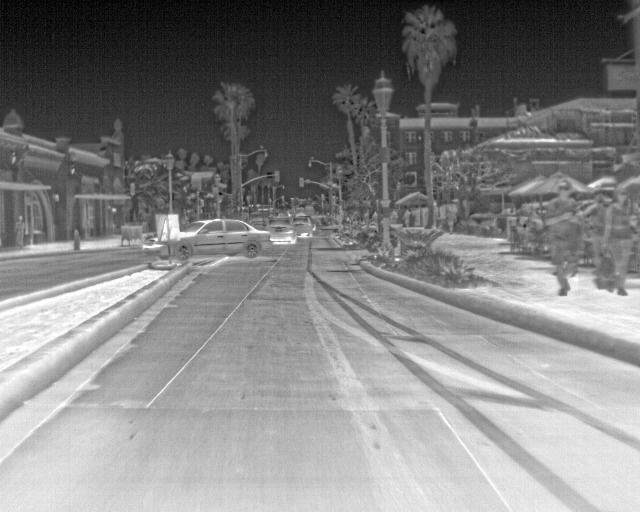bicycle: (175, 218, 271, 264), (267, 220, 298, 246), (145, 236, 169, 259), (296, 218, 314, 237)
empty: (540, 180, 582, 295), (604, 186, 637, 293), (585, 191, 612, 286), (12, 212, 27, 248)
